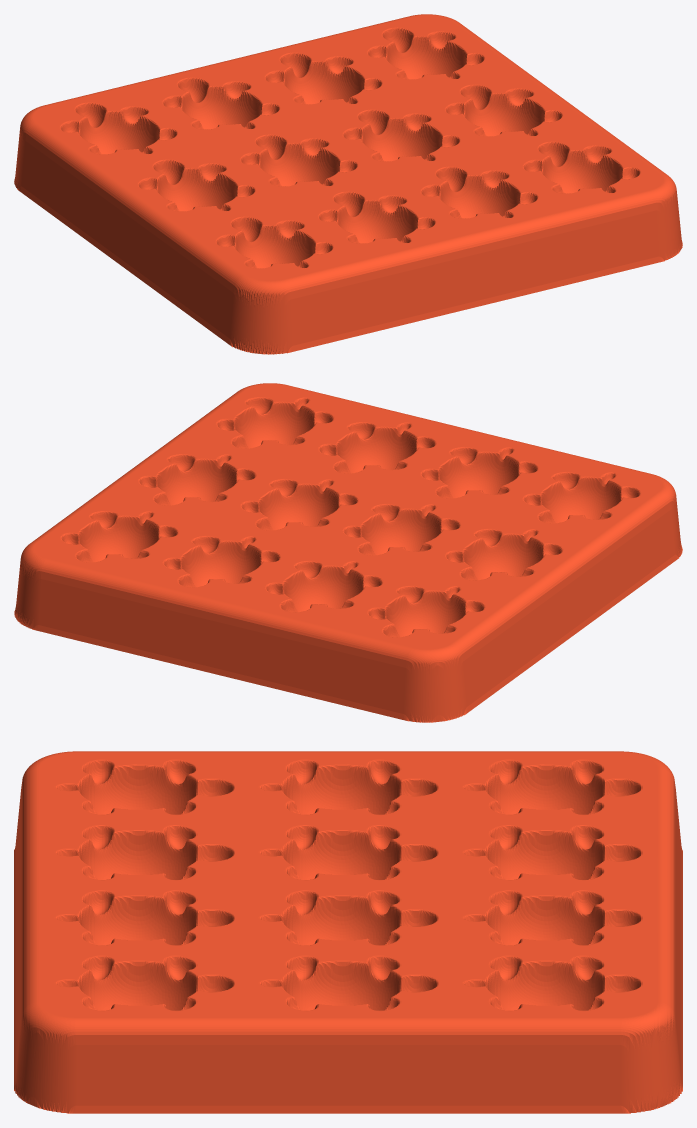
The model's file is mold.glb.
3 views of the same model, one above another, from view 1: azimuth 30°, elevation 25°; view 2: azimuth 150°, elevation 25°; view 3: azimuth 270°, elevation 25° (orthographic). The views are drawn at different scales.
Visible parts, largest first — view 1: geometry_0; view 2: geometry_0; view 3: geometry_0.
Part boxes in pixels (box(x1,y1,x2,y2)): geometry_0: box(14, 14, 682, 354); geometry_0: box(14, 383, 682, 722); geometry_0: box(14, 751, 682, 1113).
Bounding box in the file's own units: 0.098 × 0.0136 × 0.097.
